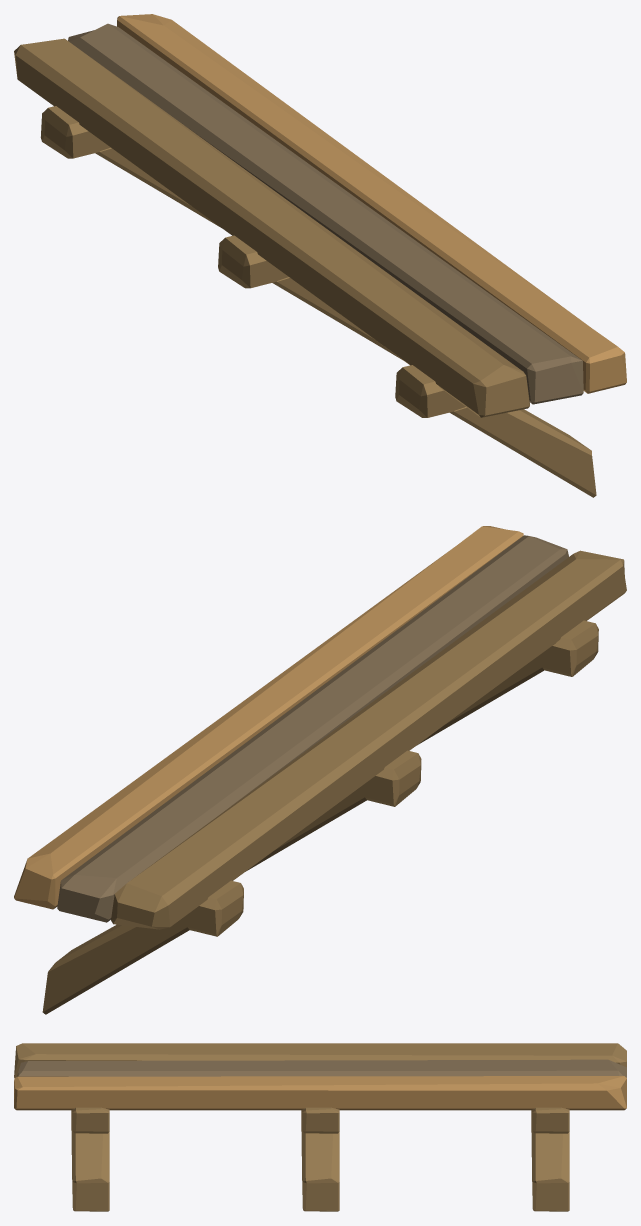
The model's file is Shelf.fbx.
3 renders of one model, top to bottom at view 1: azimuth 30°, elevation 25°; view 2: azimuth 150°, elevation 25°; view 3: azimuth 270°, elevation 25°, orthographic. The views are drawn at different scales.
Parts seen in each view (by area): view 1: Estanteria; view 2: Estanteria; view 3: Estanteria.
Part boxes in pixels (bbox=[...]): Estanteria: bbox=[14, 14, 626, 497]; Estanteria: bbox=[14, 526, 626, 1014]; Estanteria: bbox=[14, 1043, 626, 1211].
Size of the model in its own units: 74.06 by 75.38 by 347.
